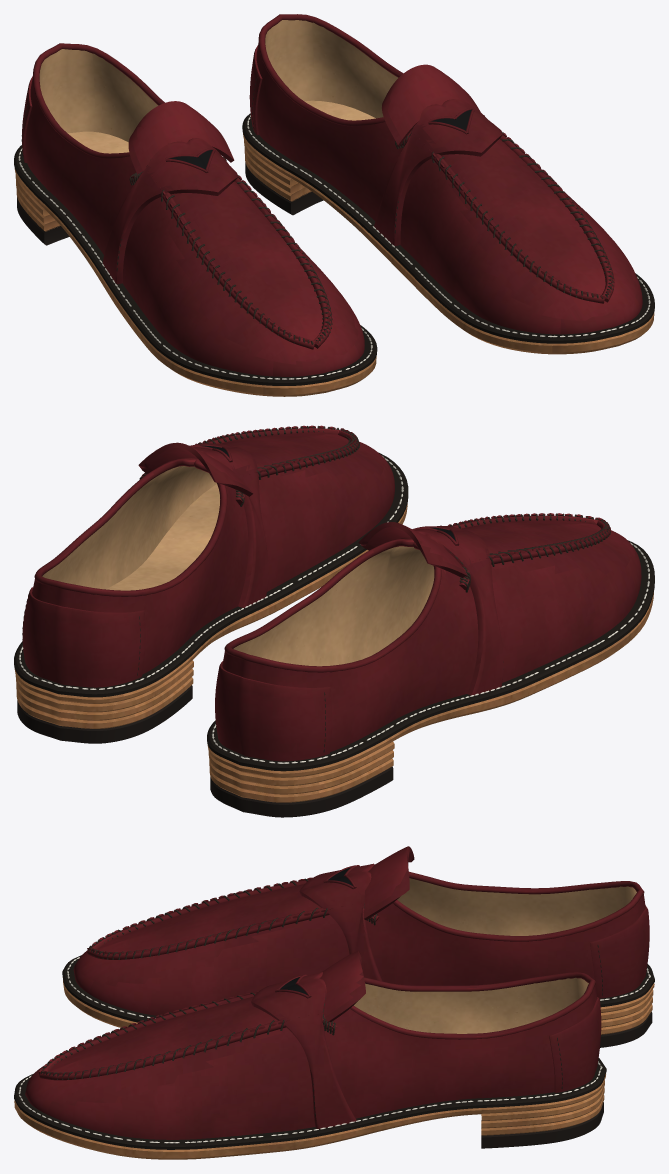
Rendered from penny-loafer.glb.
3 renders of one model, top to bottom at view 1: azimuth 30°, elevation 25°; view 2: azimuth 150°, elevation 25°; view 3: azimuth 270°, elevation 25°, orthographic. The views are drawn at different scales.
Parts seen in each view (by area): view 1: Left_Shoe, Right_Shoe; view 2: Right_Shoe, Left_Shoe; view 3: Left_Shoe, Right_Shoe.
Boxes of the visible parts, bbox=[...] form: Left_Shoe: bbox=[242, 14, 654, 354]; Right_Shoe: bbox=[14, 43, 377, 396]; Right_Shoe: bbox=[207, 513, 654, 817]; Left_Shoe: bbox=[14, 425, 408, 743]; Left_Shoe: bbox=[14, 950, 606, 1159]; Right_Shoe: bbox=[62, 846, 654, 1047].
Bounding box in the file's own units: 0.2375 × 0.0923 × 0.3182.
Materials: 8 (3 with a texture image).
